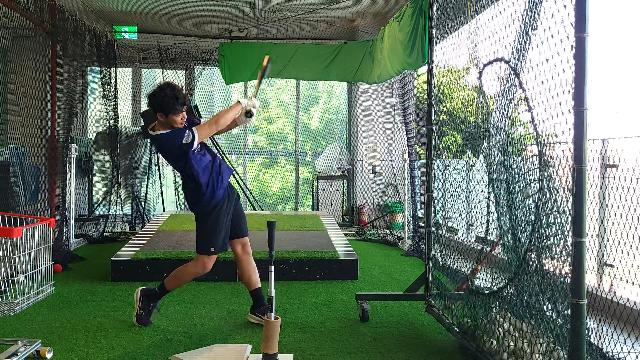bat: (253, 53, 271, 101)
